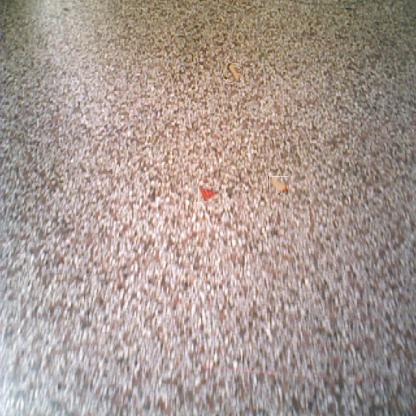dirty: (268, 176, 288, 193), (198, 185, 219, 201), (225, 64, 242, 82)
